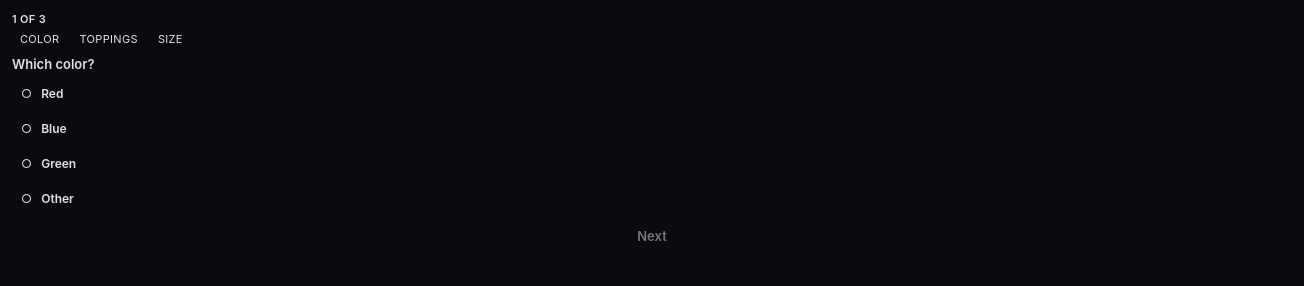
Scenario: QuestionWizard errors › a 200 step result without a readable state shows the error, not Sent
Expected: the text "1 of 3" is shown, [12,12,46,26]
Click the radio button labelled "○ Red".
click(27, 94)  # box [12,78,1292,109]
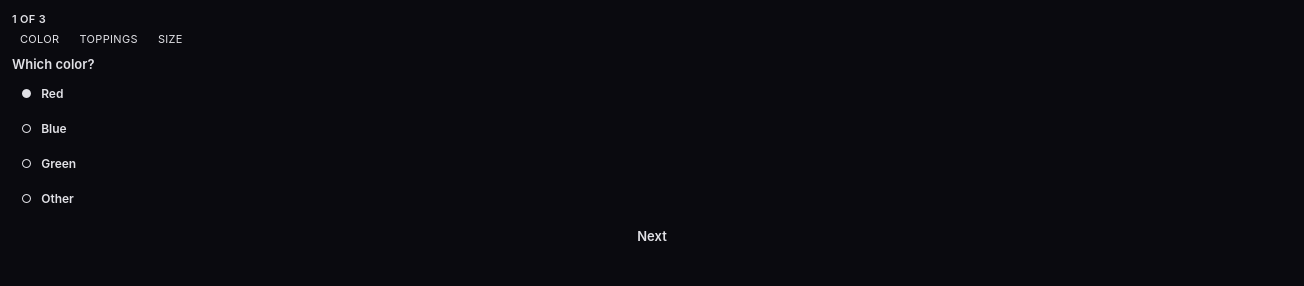
Click the button "Next".
click(652, 236)  # box [12,228,1292,244]
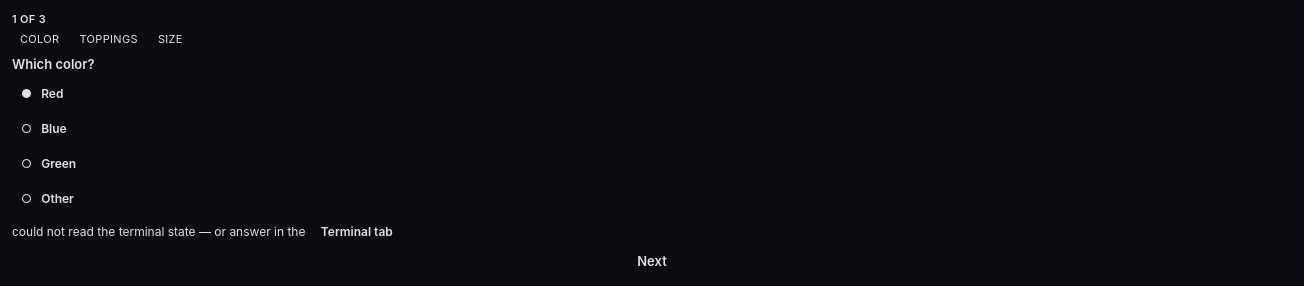
Now the button "Next" is enabled, box [12,253,1292,269]
Now the text "could not read the terminal state" is shown, box [12,224,196,239]
Now the link "Terminal tab" is shown, box [321,224,393,239]
